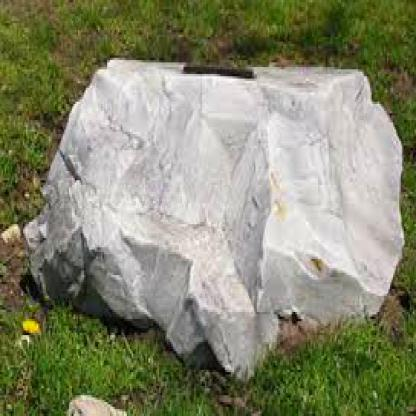Metamorphic_Quartize: (27, 33, 404, 388)
